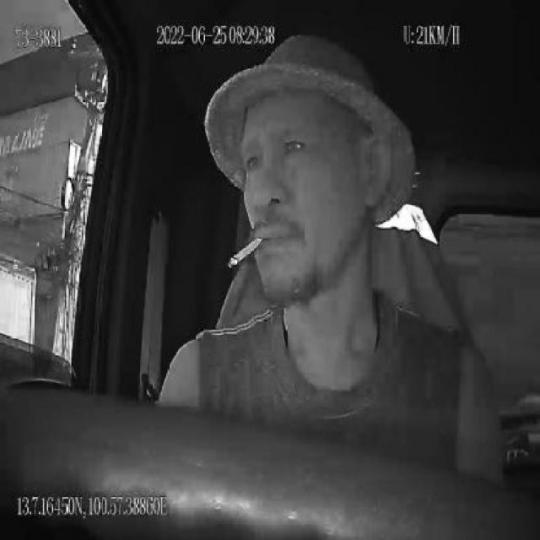smoking: (227, 233, 264, 269)
